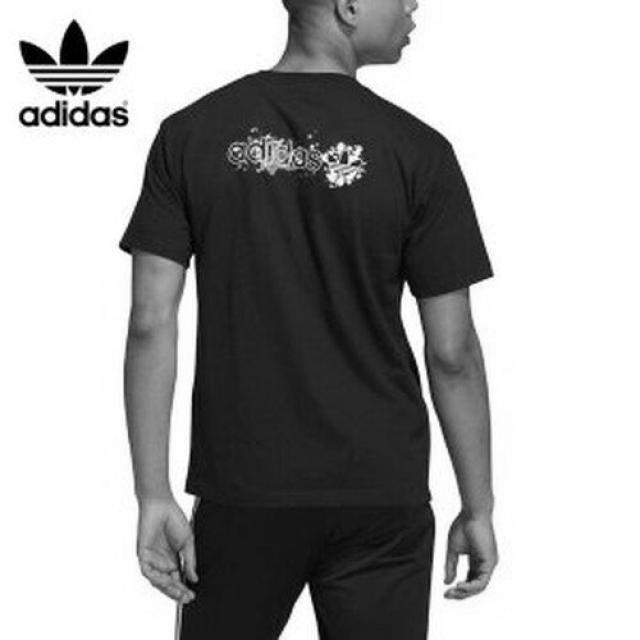Adidas: (8, 6, 136, 108), (316, 136, 368, 190)
